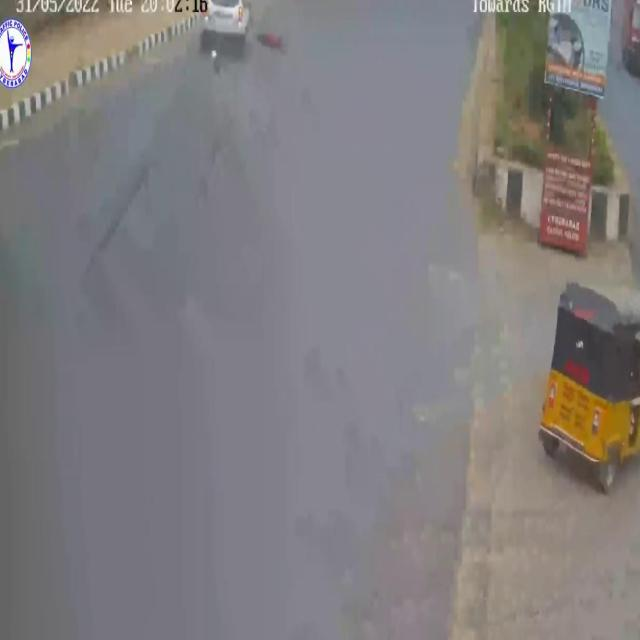accident: (189, 0, 291, 91)
